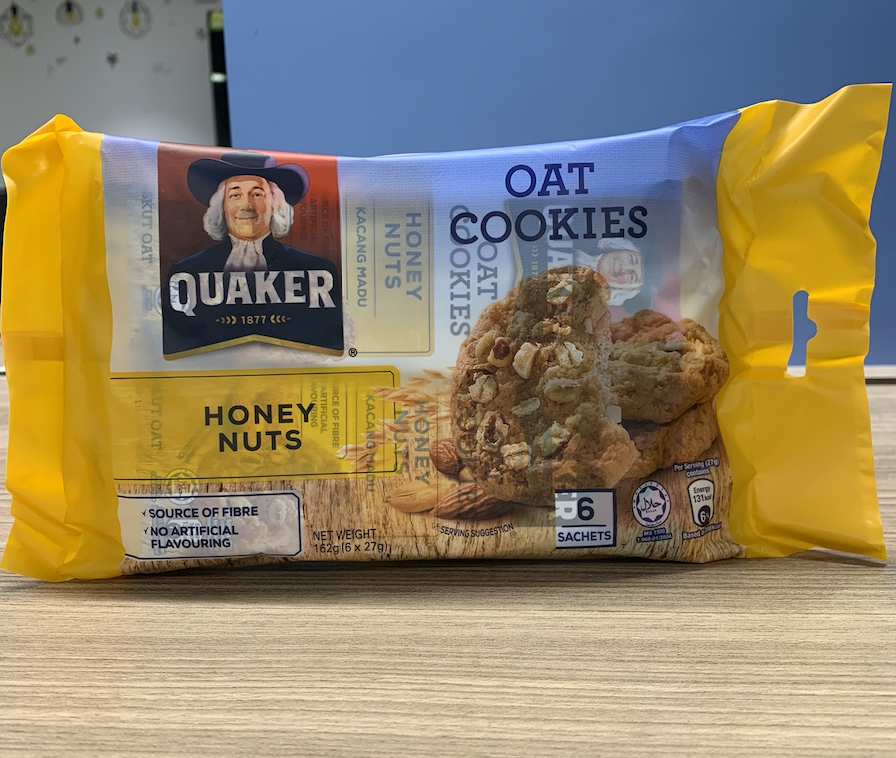cookies_150g: (60, 162, 762, 551)
